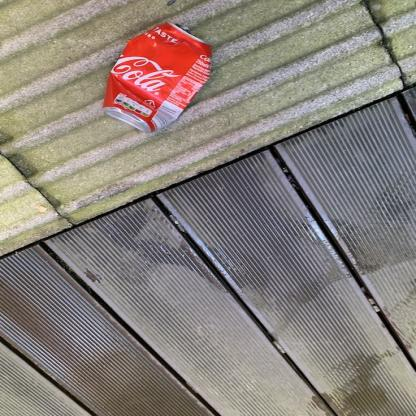trash: (97, 23, 219, 135)
